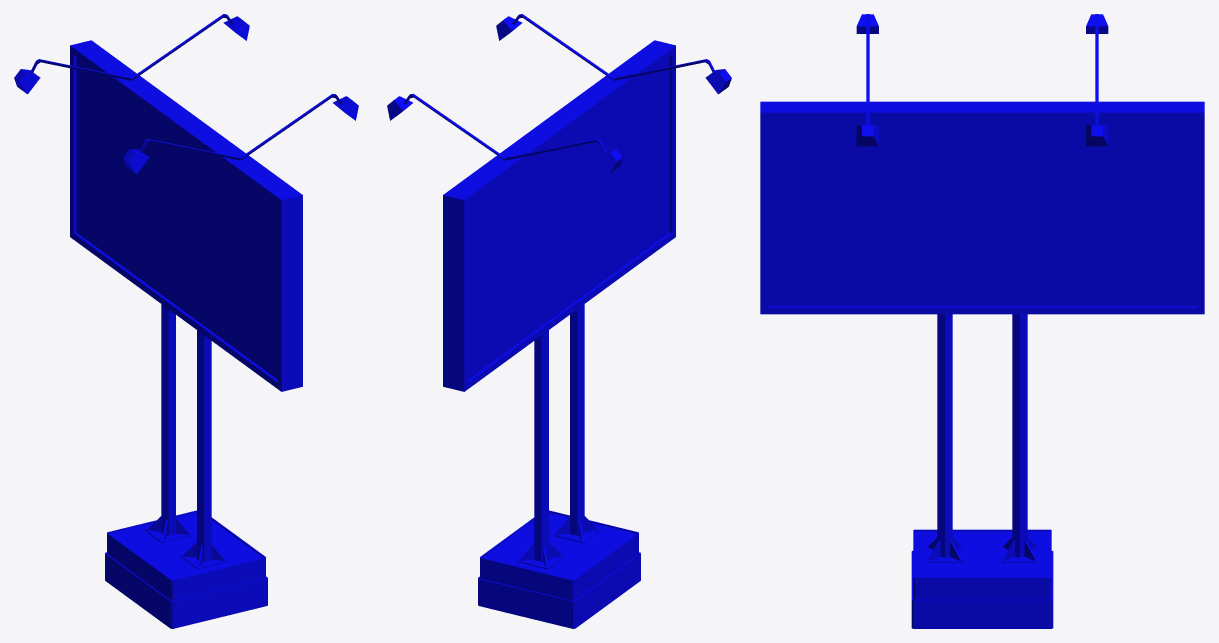
Rendered from billboard.FBX.
3 renders of one model, left to right at view 1: azimuth 30°, elevation 25°; view 2: azimuth 150°, elevation 25°; view 3: azimuth 270°, elevation 25°, orthographic. The views are drawn at different scales.
Visible parts, largest first — view 1: billboard00; view 2: billboard00; view 3: billboard00.
Boxes of the visible parts, x1,y1,x2,y2 form: billboard00: (14, 14, 358, 628); billboard00: (387, 14, 731, 628); billboard00: (760, 14, 1204, 628).
Bounding box in the file's own units: 3.77 × 8.07 × 6.
